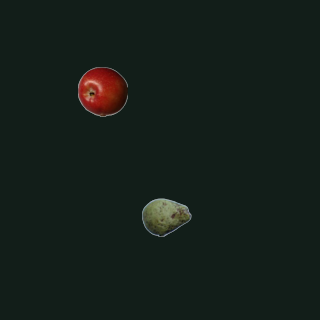Apple Braeburn: (77, 66, 127, 116)
Pear Stone: (141, 192, 191, 242)
